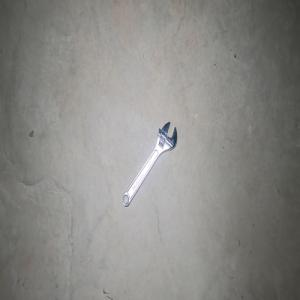Wrench: (122, 121, 177, 207)
